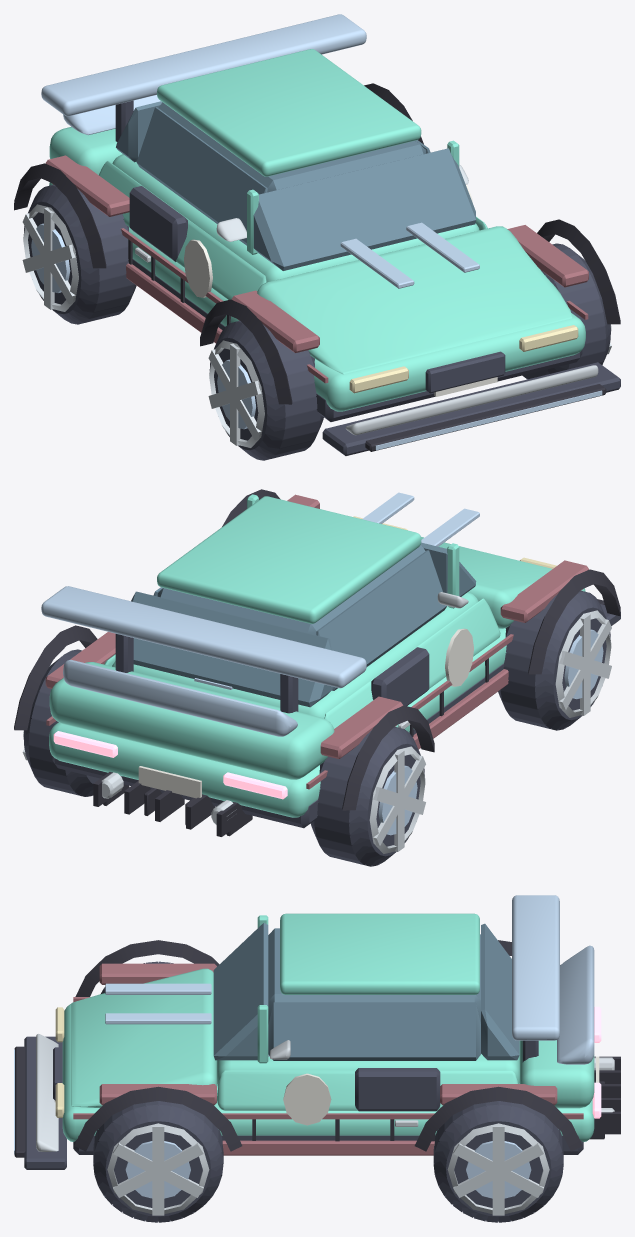
File: turbo_talon.fbx
3 renders of one model, top to bottom at view 1: azimuth 30°, elevation 25°; view 2: azimuth 150°, elevation 25°; view 3: azimuth 270°, elevation 25°, orthographic. The views are drawn at different scales.
Parts seen in each view (by area): view 1: Body, Glass, Trim2, Accent3, Trim, Accent, Metal, Wheel_FR, Wheel_RR, Accent4, Light, Wheel_FL (+3 smaller); view 2: Body, Glass, Accent3, Trim, Accent, Metal, Wheel_RR, Wheel_FR, Trim2, Wheel_RL, Accent2, Light3 (+2 smaller); view 3: Body, Glass, Trim, Accent3, Metal, Accent, Trim2, Wheel_FL, Wheel_RL, Light, Accent4, Metal2 (+3 smaller).
Part boxes in pixels (bbox=[...]): Body: bbox=[49, 49, 585, 411]; Glass: bbox=[116, 101, 476, 270]; Trim2: bbox=[115, 100, 620, 455]; Accent3: bbox=[41, 14, 366, 135]; Trim: bbox=[14, 83, 620, 451]; Accent: bbox=[45, 155, 588, 383]; Metal: bbox=[22, 204, 611, 447]; Wheel_FR: bbox=[209, 320, 323, 460]; Wheel_RR: bbox=[23, 184, 136, 324]; Accent4: bbox=[216, 164, 598, 435]; Light: bbox=[340, 222, 602, 450]; Wheel_FL: bbox=[522, 243, 610, 379]; Body: bbox=[49, 494, 585, 817]; Glass: bbox=[131, 542, 476, 707]; Accent3: bbox=[41, 586, 366, 736]; Trim: bbox=[14, 489, 620, 836]; Accent: bbox=[45, 494, 588, 789]; Metal: bbox=[22, 610, 611, 853]; Wheel_RR: bbox=[310, 726, 424, 866]; Wheel_FR: bbox=[498, 590, 610, 730]; Trim2: bbox=[52, 604, 620, 828]; Wheel_RL: bbox=[23, 649, 99, 796]; Accent2: bbox=[138, 628, 473, 798]; Light3: bbox=[53, 731, 287, 799]; Body: bbox=[62, 913, 594, 1141]; Glass: bbox=[213, 923, 519, 1060]; Trim: bbox=[14, 940, 620, 1157]; Accent3: bbox=[268, 895, 594, 1064]; Metal: bbox=[107, 1057, 614, 1215]; Accent: bbox=[73, 963, 583, 1155]; Trim2: bbox=[24, 1036, 583, 1169]; Wheel_FL: bbox=[93, 1101, 223, 1222]; Wheel_RL: bbox=[433, 1101, 563, 1222]; Light: bbox=[14, 983, 211, 1154]; Accent4: bbox=[36, 1034, 290, 1151]; Metal2: bbox=[125, 1141, 531, 1198].
Bounding box in the file's own units: 3.31 × 1.99 × 5.37.
